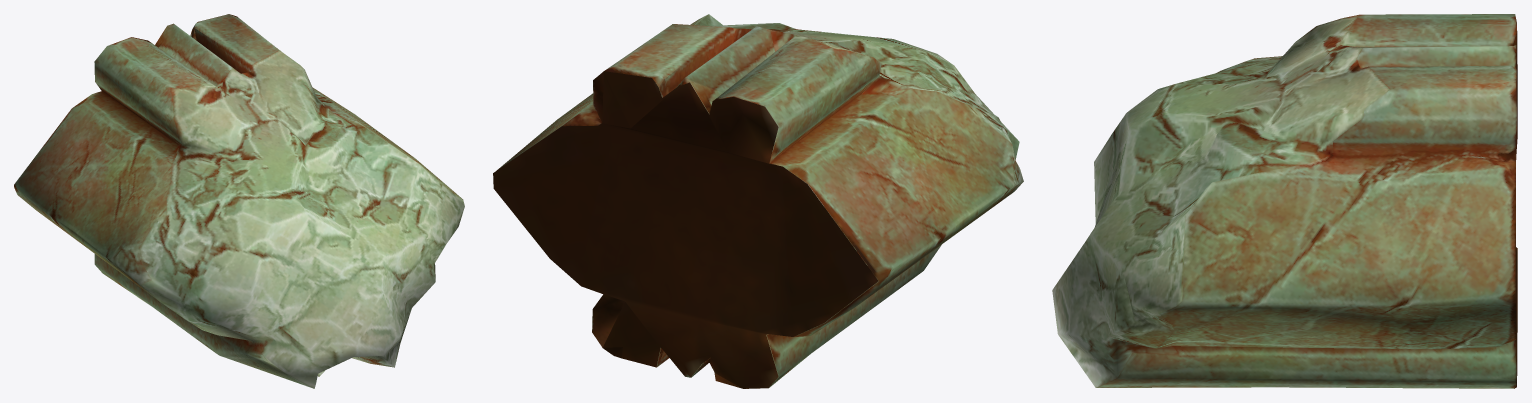
The model's file is Ruins_Collumn_Dmg_A.fbx.
3 renders of one model, left to right at view 1: azimuth 30°, elevation 25°; view 2: azimuth 150°, elevation 25°; view 3: azimuth 270°, elevation 25°, orthographic. The views are drawn at different scales.
Visible parts, largest first — view 1: Ruins_Collumn_Dmg_A; view 2: Ruins_Collumn_Dmg_A; view 3: Ruins_Collumn_Dmg_A.
Part boxes in pixels (x1,y1,x2,y2): Ruins_Collumn_Dmg_A: (14,14,464,388); Ruins_Collumn_Dmg_A: (493,14,1023,388); Ruins_Collumn_Dmg_A: (1052,14,1517,388).
Size of the model in its own units: 432 by 309 by 416.
